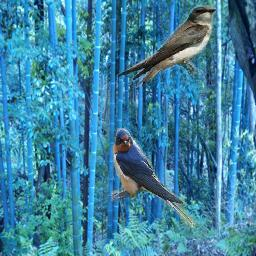Swallow: (112, 128, 197, 229), (118, 5, 217, 87)
